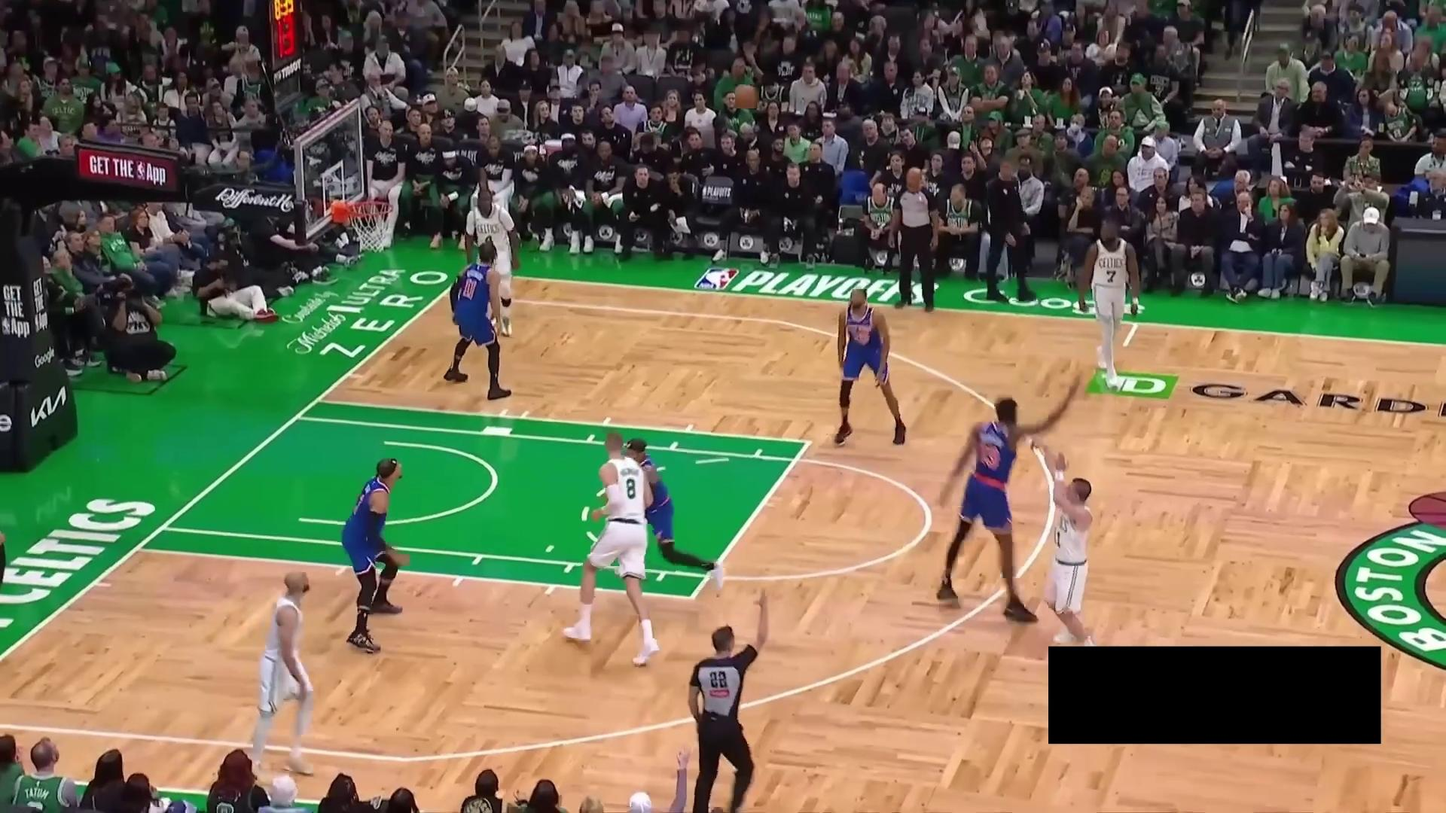ball: (734, 84, 758, 108)
number: (978, 443, 1001, 470), (461, 276, 477, 300), (625, 476, 636, 502), (1053, 526, 1062, 548), (1105, 268, 1117, 283)
player: (936, 369, 1084, 625), (563, 430, 660, 667), (624, 436, 726, 590), (1027, 438, 1101, 646), (248, 569, 314, 778), (341, 458, 409, 653), (441, 238, 514, 405), (833, 287, 908, 447), (1078, 215, 1140, 390), (463, 189, 525, 340)
referee: (686, 586, 775, 813), (884, 166, 944, 313)
rim: (347, 198, 396, 220)
